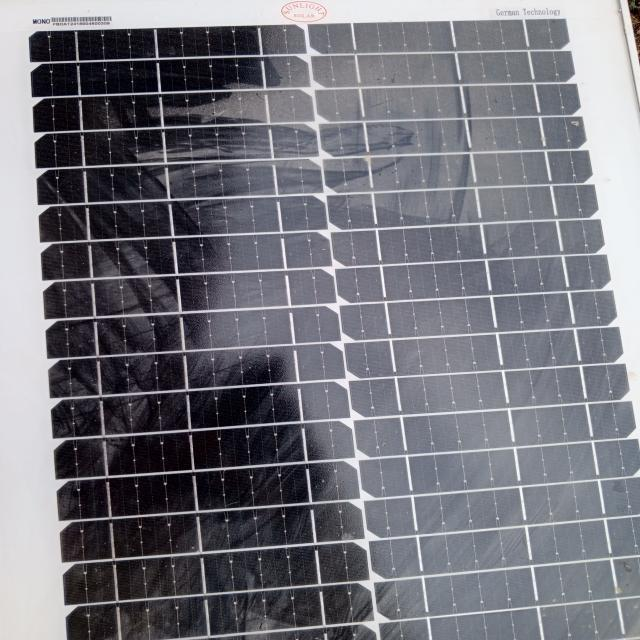Surface Contaminant: (161, 5, 613, 639)
